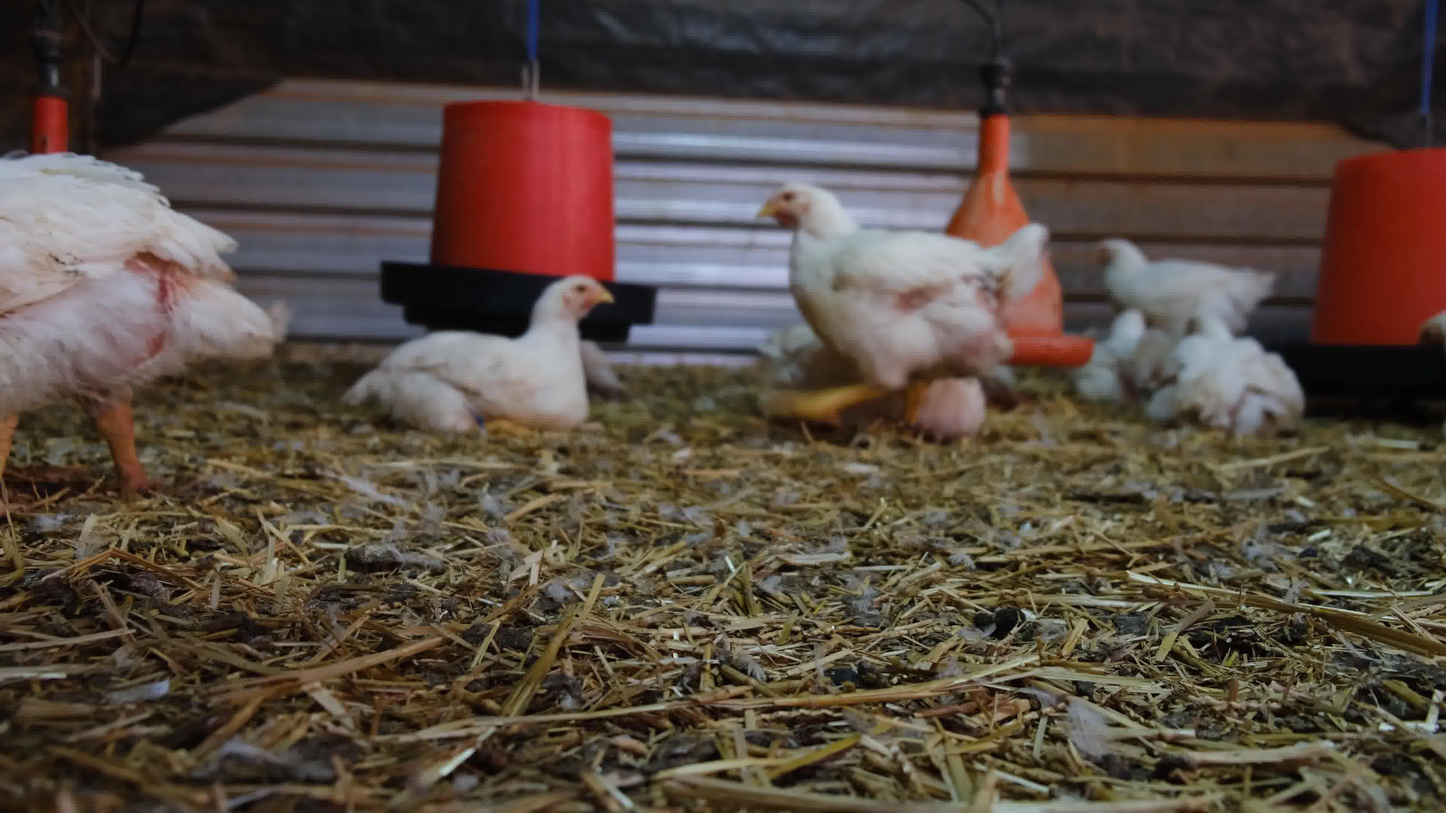AbNormal: (331, 271, 616, 431), (1152, 309, 1313, 439), (1068, 306, 1152, 407)
Normal: (2, 151, 292, 541), (755, 181, 1048, 423), (1091, 237, 1280, 337)
